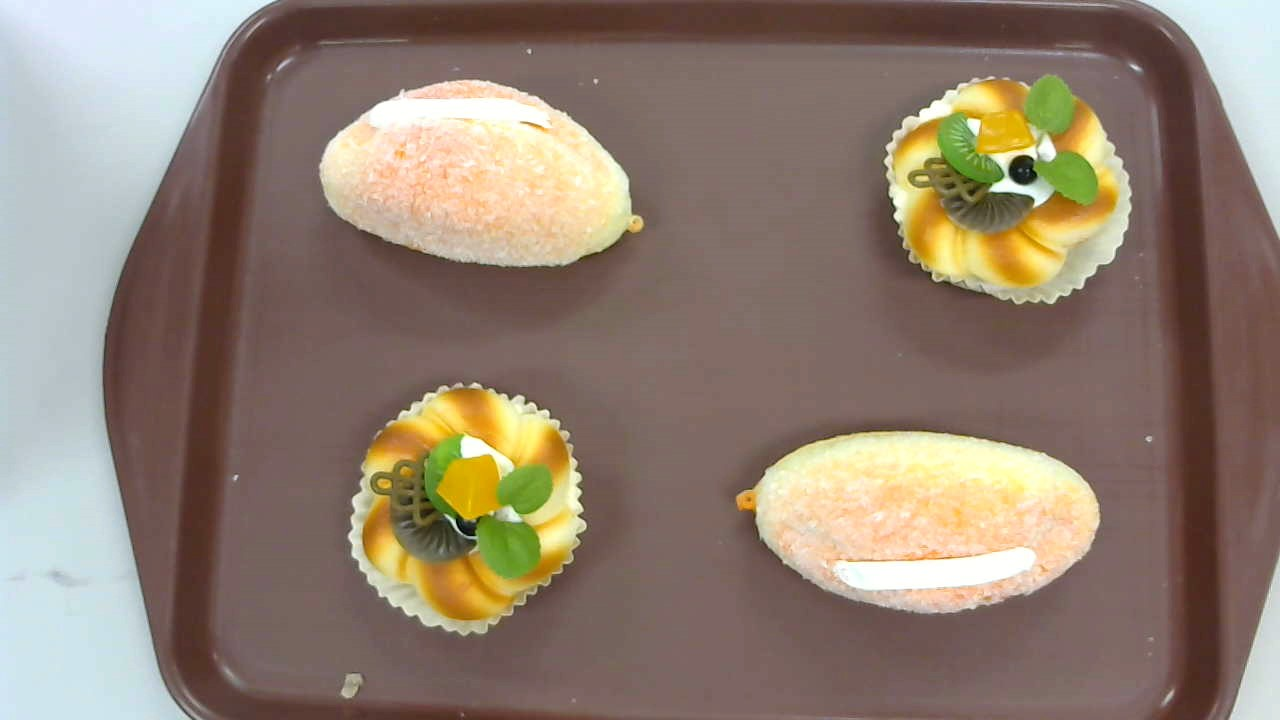coconut: (735, 430, 1100, 615), (319, 78, 646, 268)
fruit tart: (348, 382, 589, 637), (882, 72, 1134, 306)
